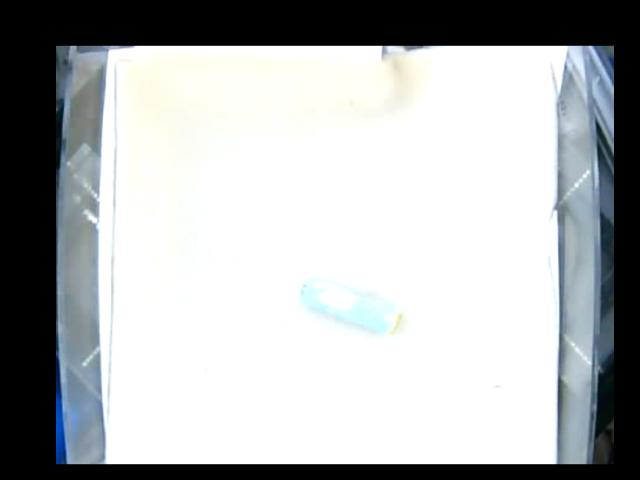Battery: (299, 278, 402, 331)
